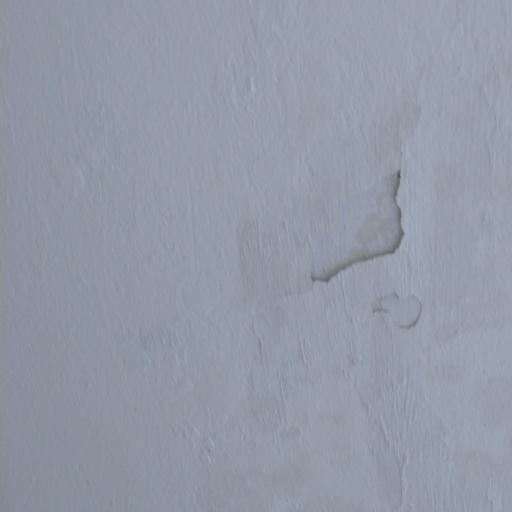peeling: (268, 131, 454, 344)
